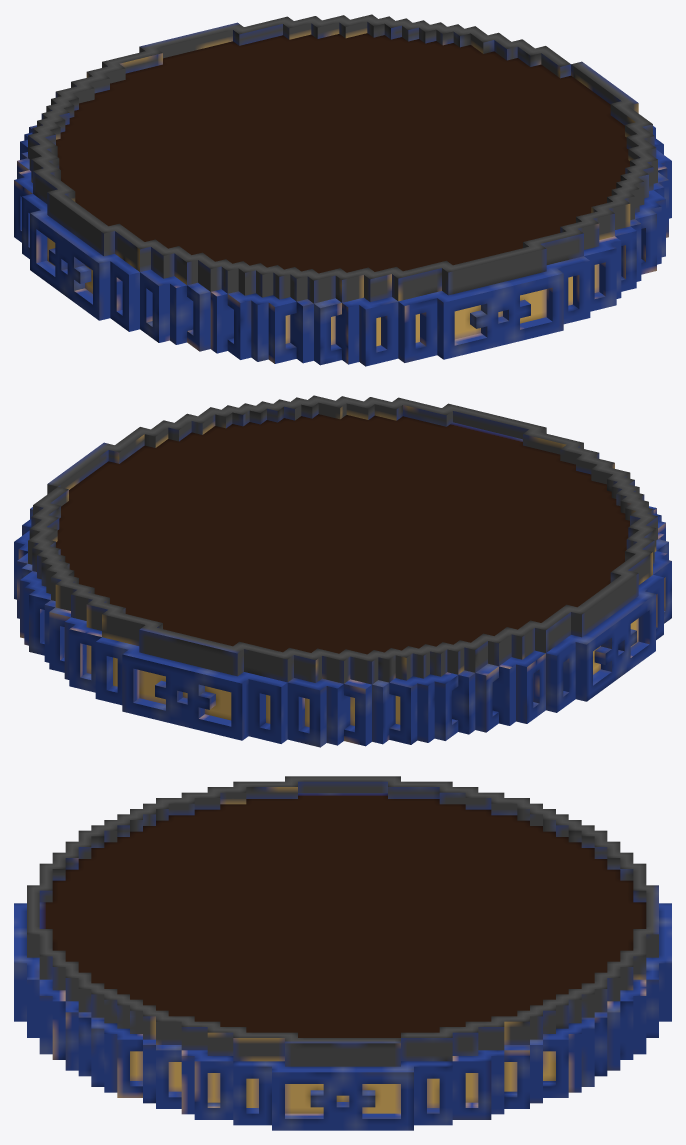
The model's file is Culture.fbx.
The picture shows the model from 3 angles, top to bottom: view 1: azimuth 30°, elevation 25°; view 2: azimuth 150°, elevation 25°; view 3: azimuth 270°, elevation 25°; orthographic projection. The views are drawn at different scales.
Parts seen in each view (by area): view 1: Culture.001; view 2: Culture.001; view 3: Culture.001.
Boxes of the visible parts, bbox=[...] form: Culture.001: bbox=[14, 14, 671, 366]; Culture.001: bbox=[14, 395, 671, 747]; Culture.001: bbox=[14, 776, 671, 1130].
Bounding box in the file's own units: 5.1 × 0.7 × 5.1.
1 material, 1 textured.
